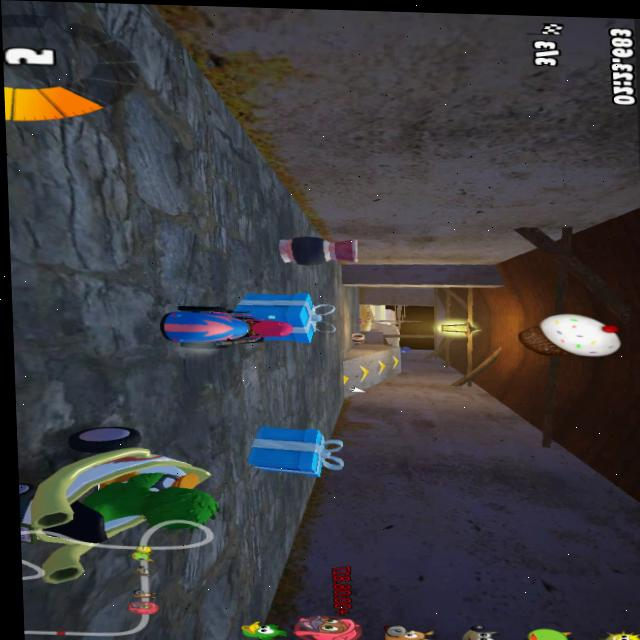bonus: (234, 420, 342, 482)
enemy_kart: (50, 426, 245, 568)
obstacle: (254, 229, 362, 276)
power_up: (331, 370, 356, 391), (355, 361, 373, 383), (373, 356, 390, 375)
